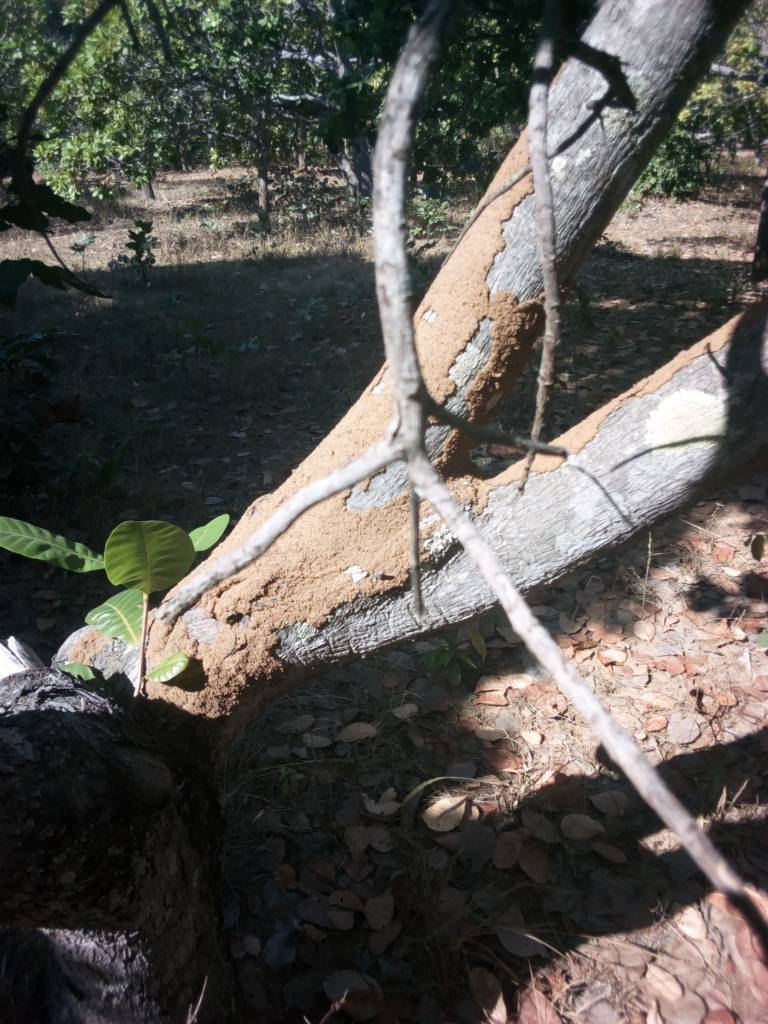Termites: (171, 510, 391, 688), (424, 203, 518, 392)
